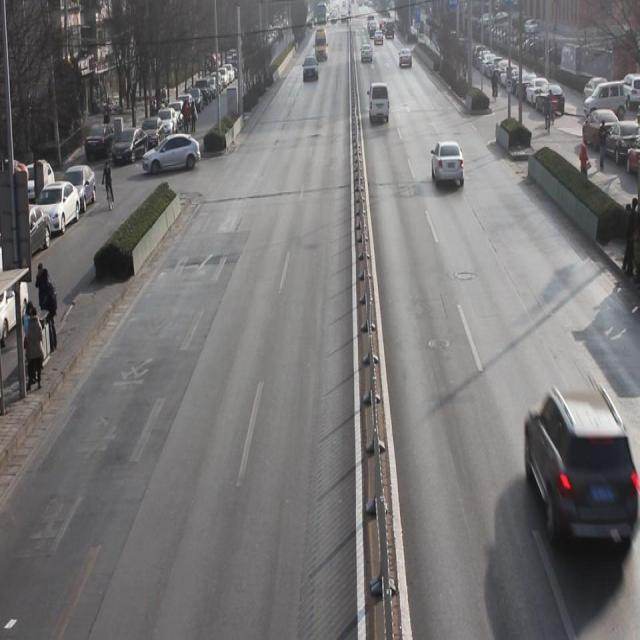car: (524, 384, 633, 557), (431, 136, 466, 192), (303, 54, 320, 85), (399, 47, 416, 70)
truck: (368, 79, 389, 133)
